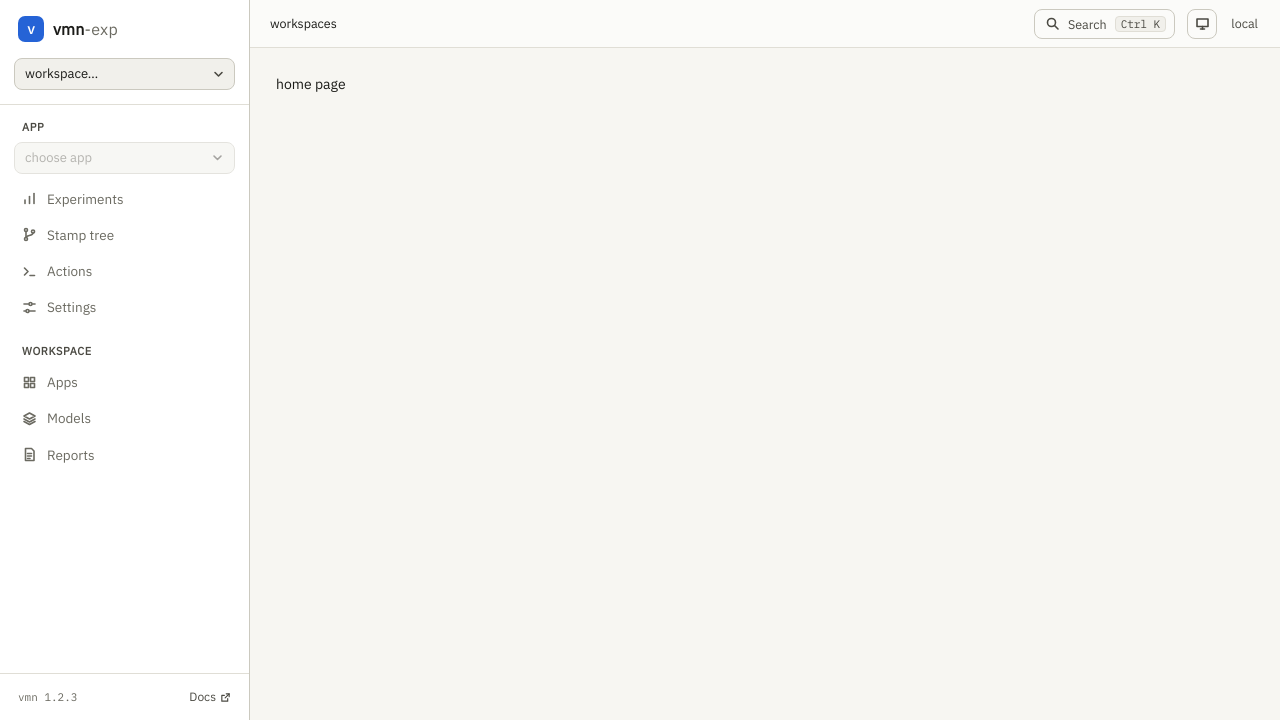
Test: command palette › moves focus to main after a palette navigation
Expected: the text "home page" is shown, [276, 75, 346, 93]
Step 1. Press k
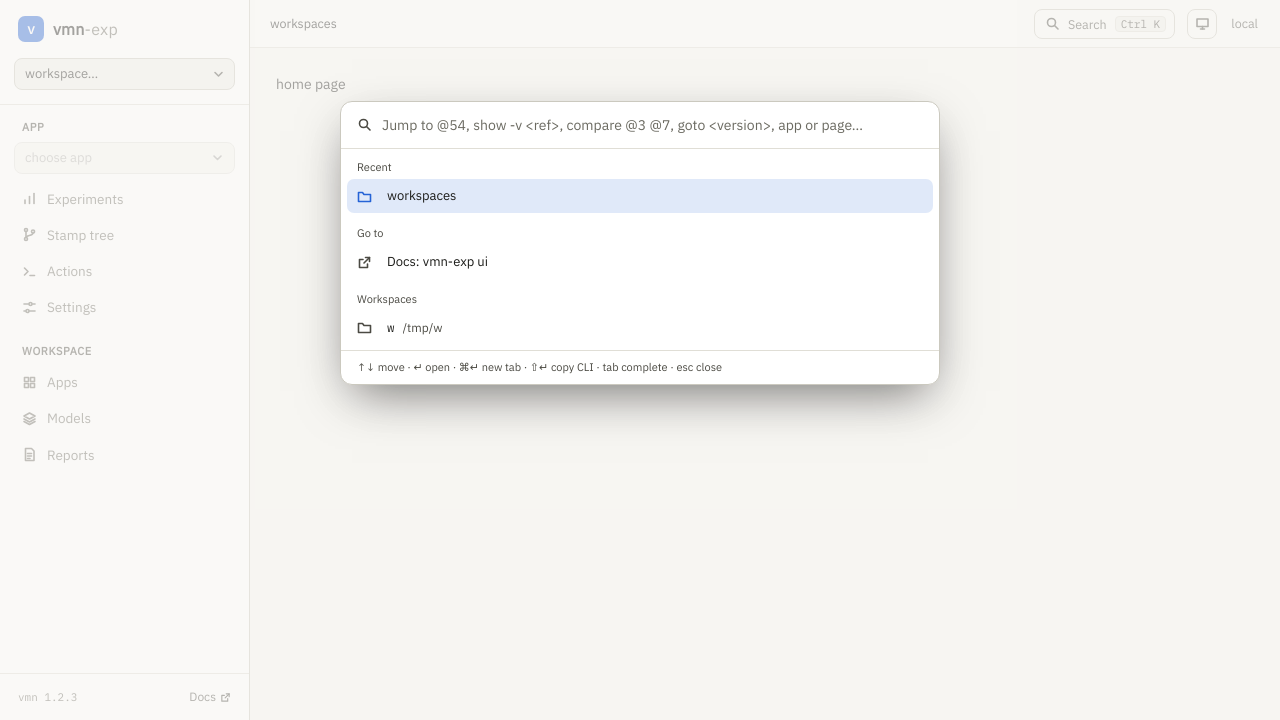
Step 2. Replace the text in the dropdown with "ws w" → point(652, 125), box [382, 102, 923, 148]
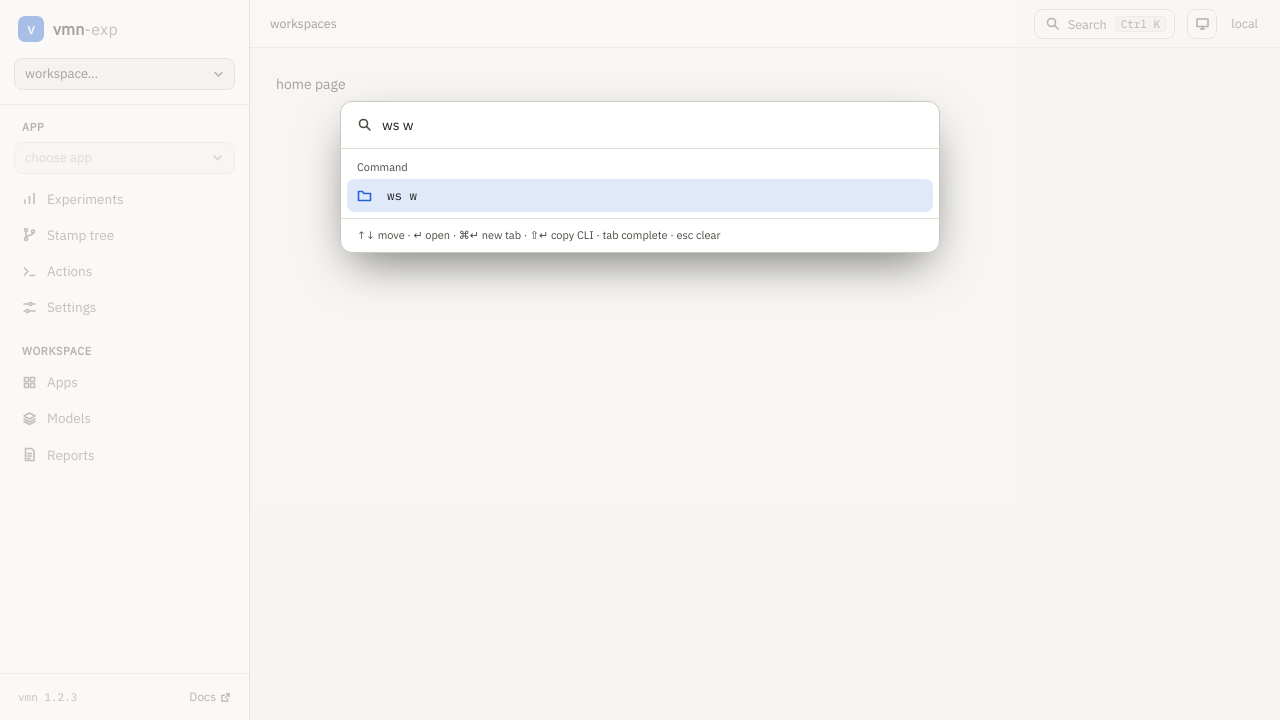
Expected: the option "ws w" is shown, [347, 179, 933, 212]
Step 3. Press Enter in the dropdown, box [382, 102, 923, 148]
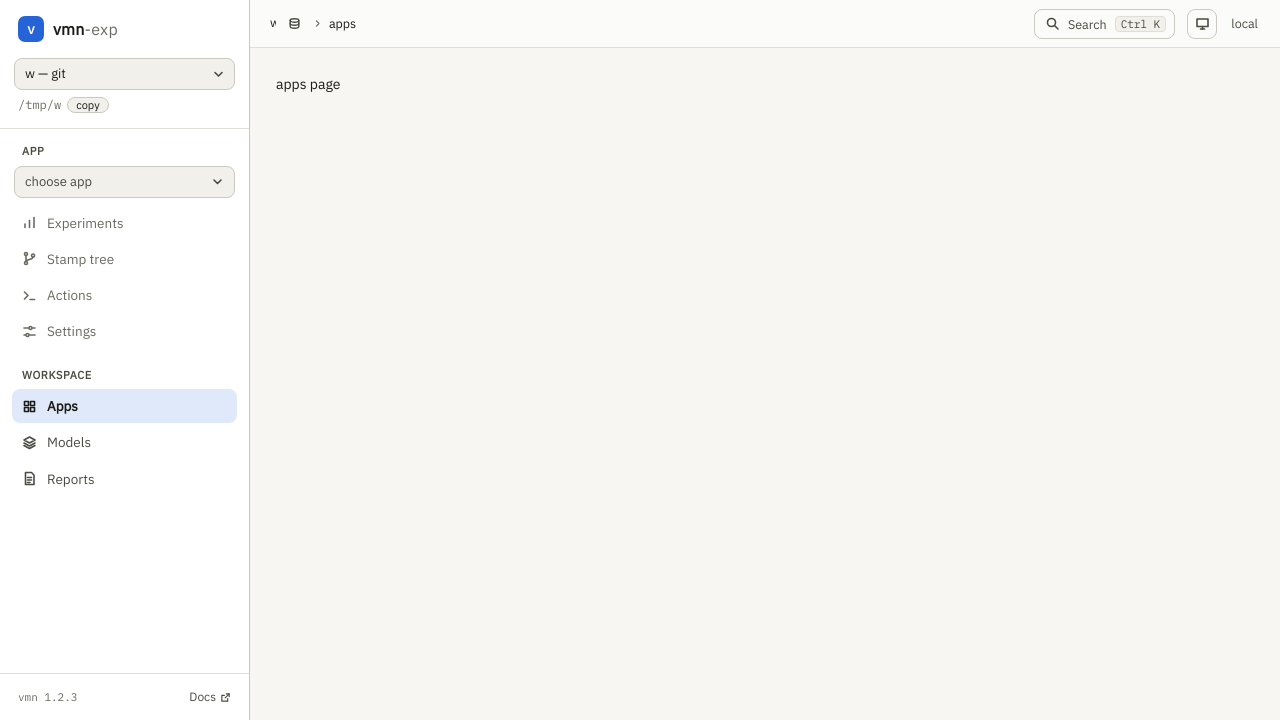
Expected: the text "apps page" is shown, [276, 75, 340, 93]
